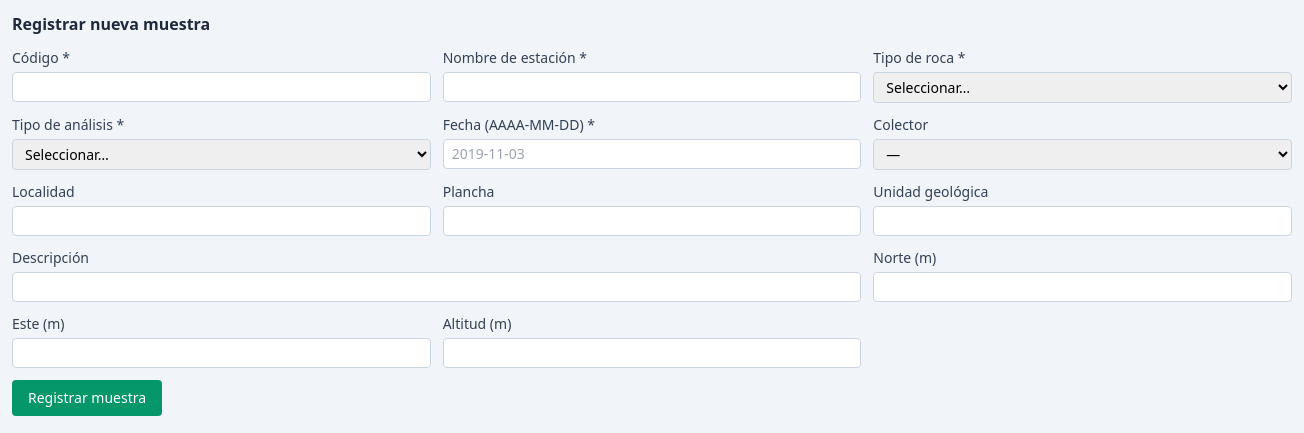
Test: RegistrationForm › shows the 409 duplicate error
Type "ZZX9999" into the field labelled "Código *" at (221,87), box [12,72,431,102]
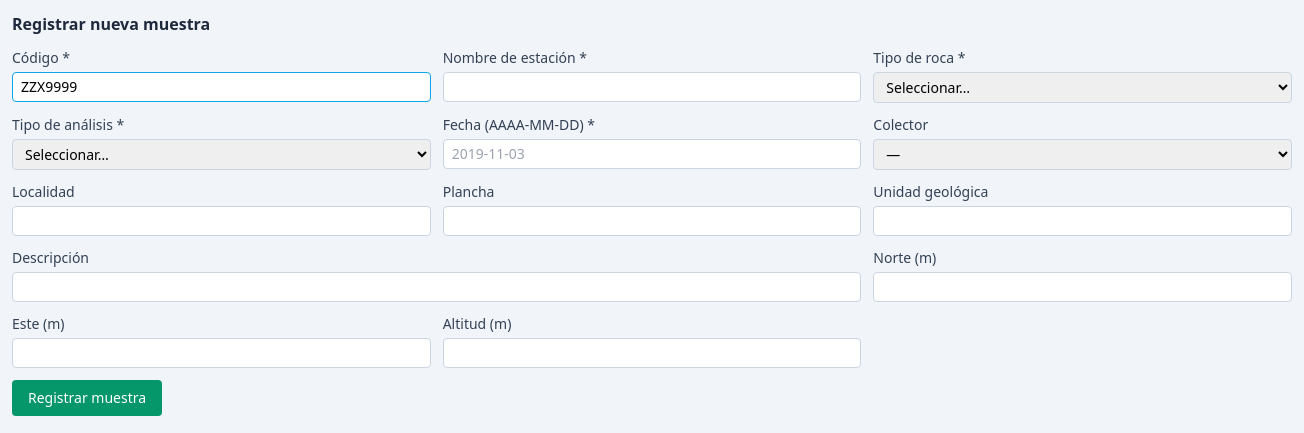
Type "Estacion Nueva" into the field labelled "Nombre de estación *" at (652,87), box [443,72,861,102]
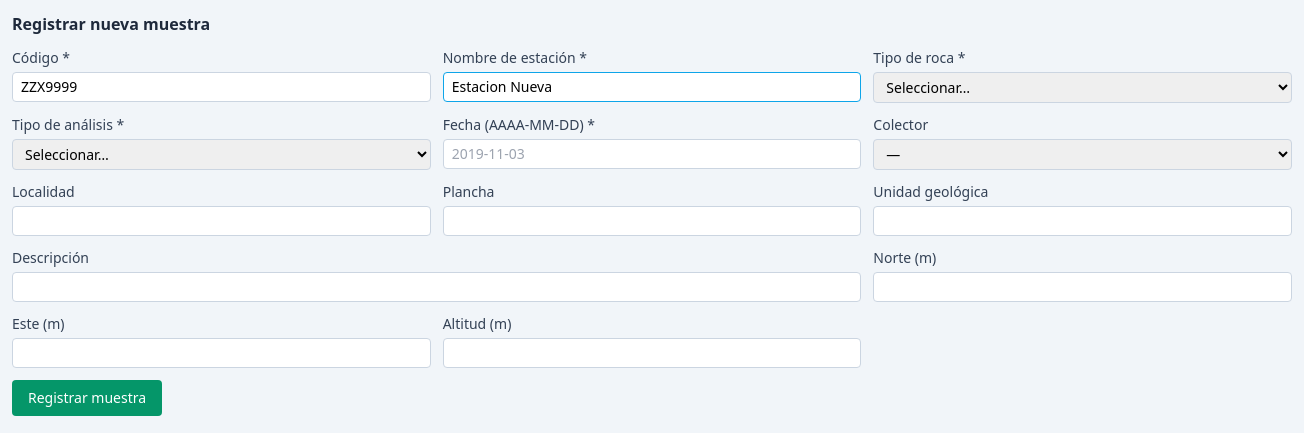
Select "Granito" in the dropdown labelled "Tipo de roca *" at (1083,88), box [873,72,1292,103]
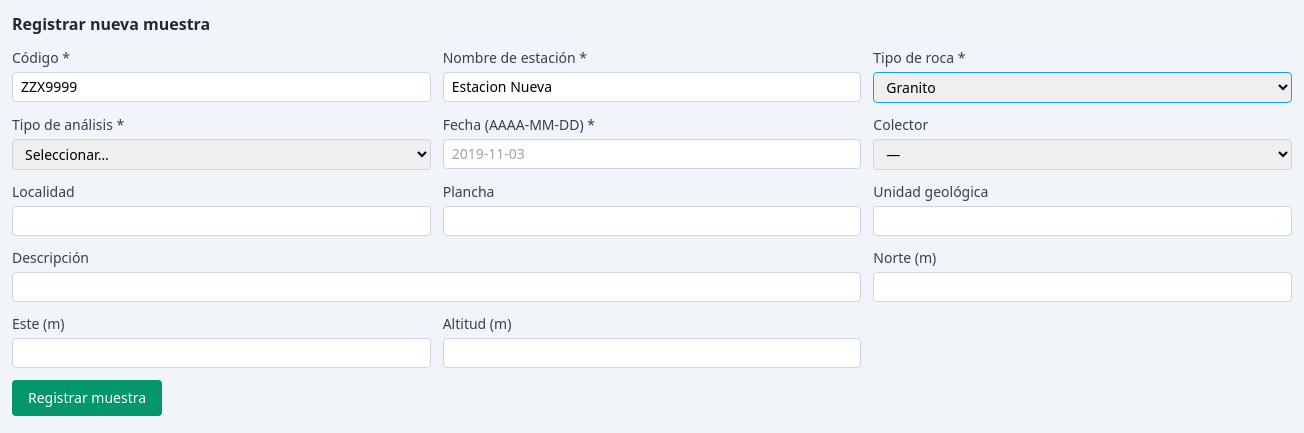
Select "Seccion Delgada" in the dropdown labelled "Tipo de análisis *" at (221,154), box [12,139,431,170]
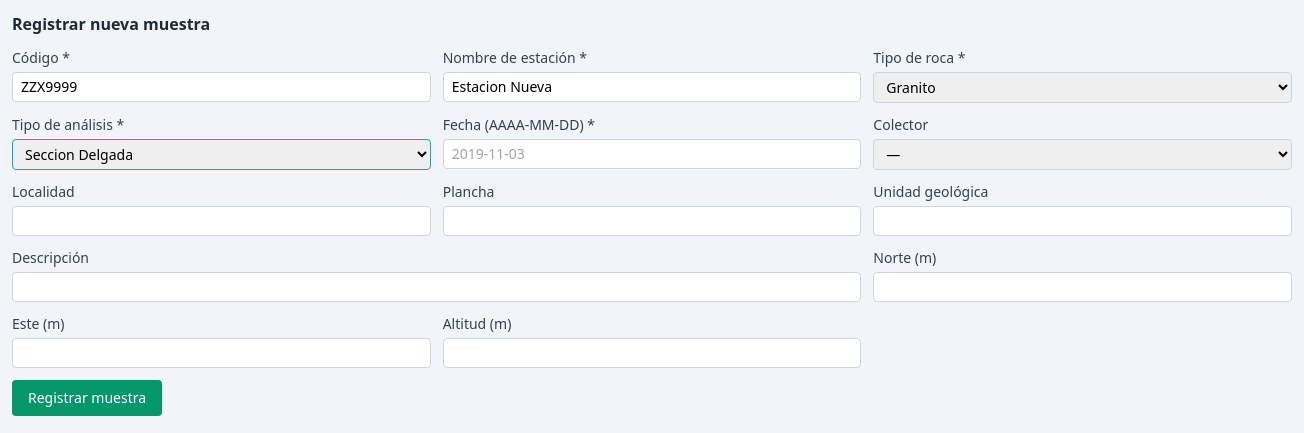
Type "2024-05-01" into the field labelled "Fecha (AAAA-MM-DD) *" at (652,154), box [443,139,861,169]
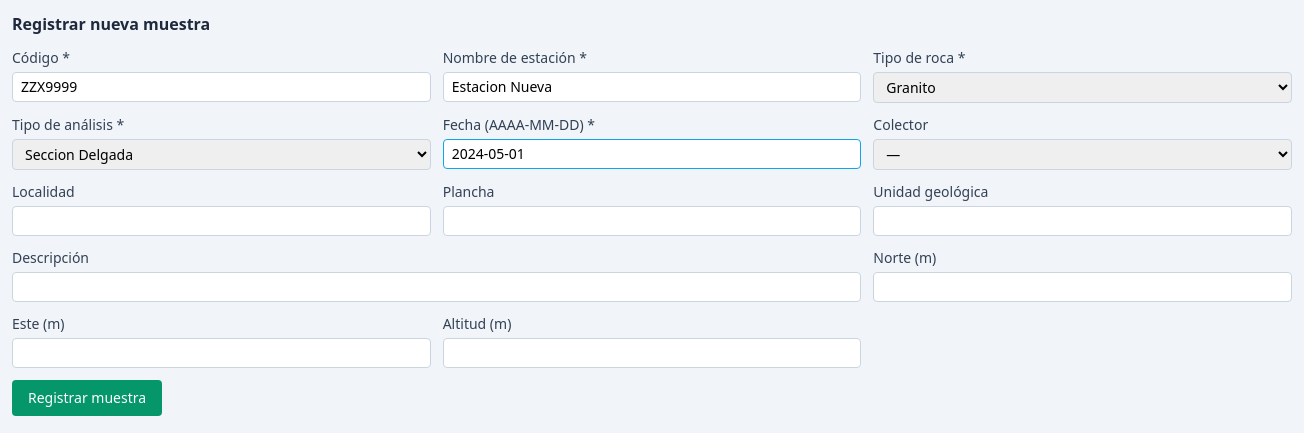
Click the button "Registrar muestra" at (87,398), box [12,380,162,416]
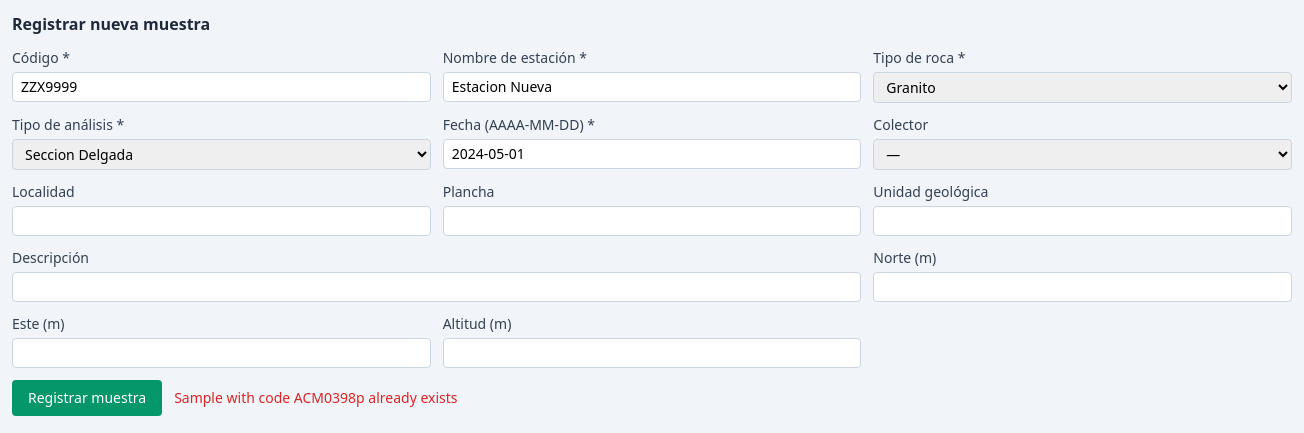
Check: the text with test id "reg-error" shows "already exists", box [174,388,458,407]
